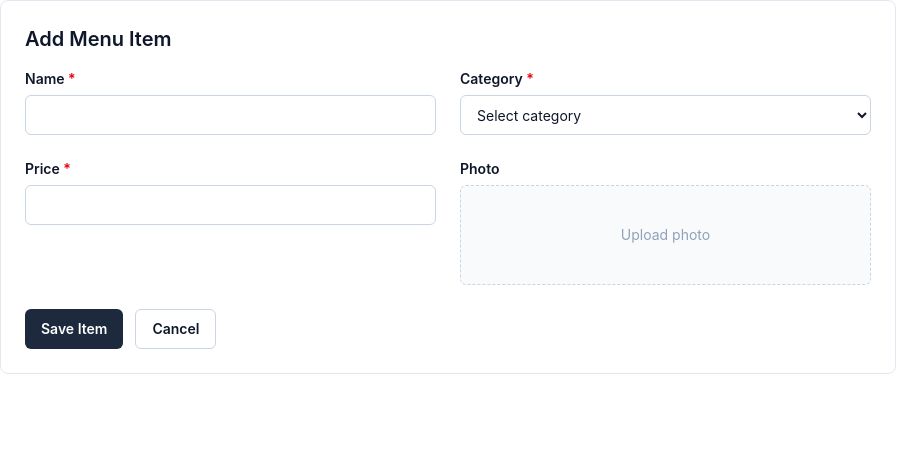
Scenario: AddMenuItemForm › AC1 — category required › reject: no category selected shows the banner and a "Category is required" inline error, and no POST is attempted
Type "Spring Rolls" into the field labelled "Name *".
click(230, 115); type("Spring Rolls")  # box [25,95,436,135]
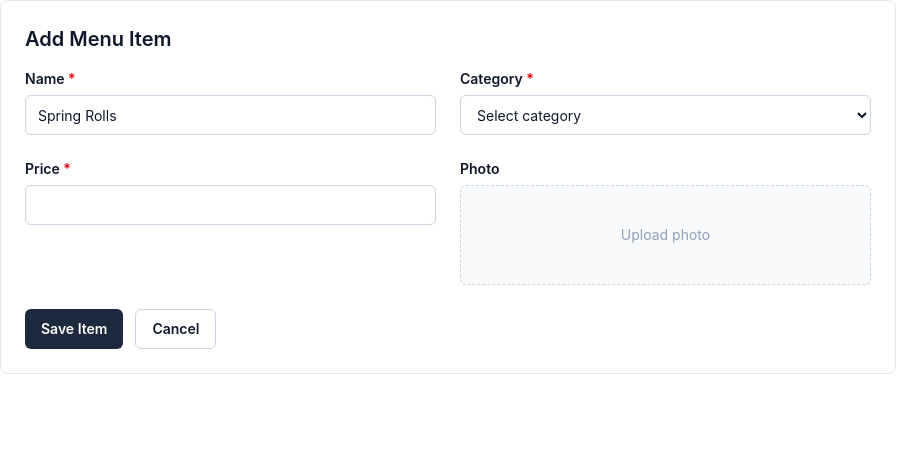
Type "12.5" into the number field labelled "Price *".
click(230, 205); type("12.5")  # box [25,185,436,225]
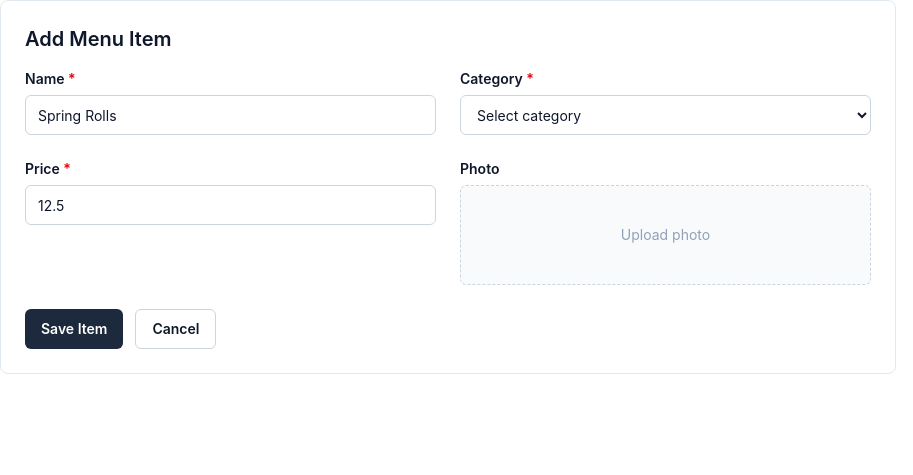
Click the button "Save Item".
click(74, 329)  # box [25,309,124,349]
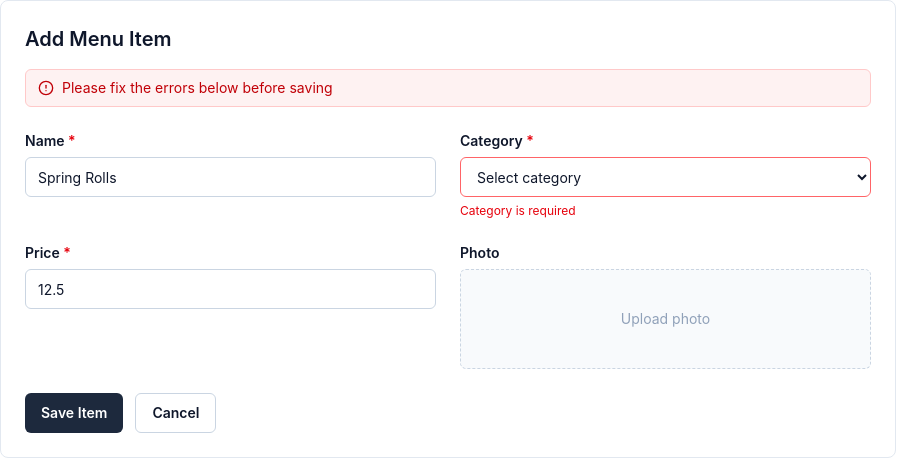
Expected: the text "Category is required" is shown, [460,203,576,218]
Expected: the text "Please fix the errors below before saving" is shown, [25,69,871,107]
